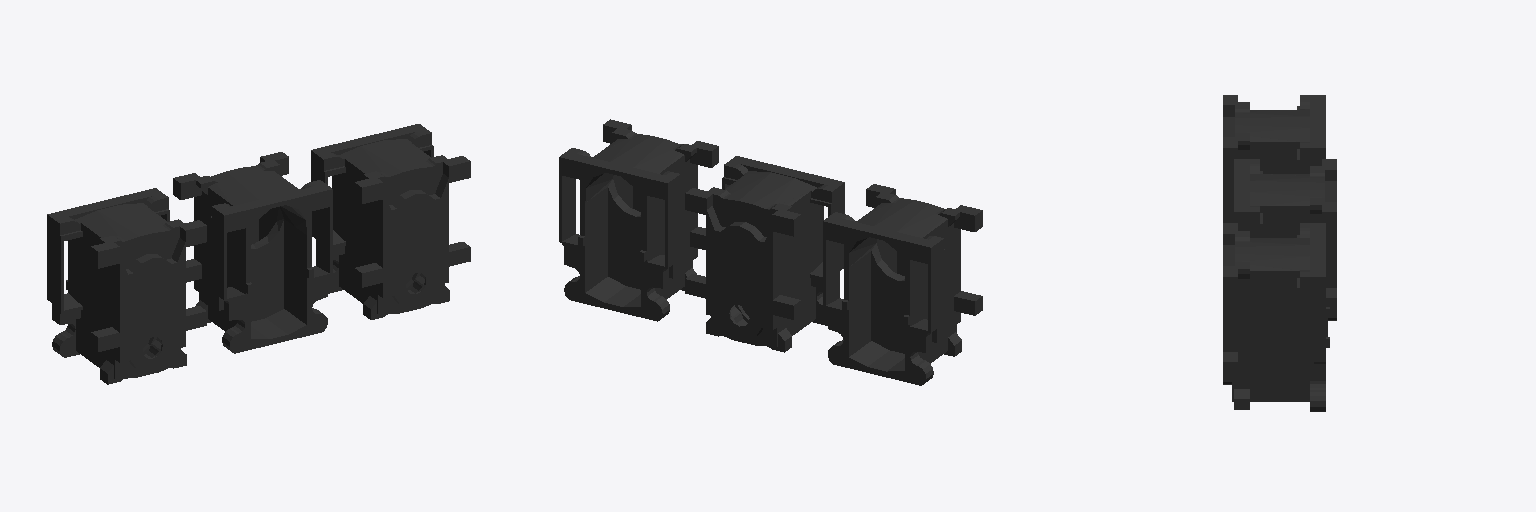
Rendered from Waist_1_mesh_1.obj.
3 renders of one model, left to right at view 1: azimuth 30°, elevation 25°; view 2: azimuth 150°, elevation 25°; view 3: azimuth 270°, elevation 25°, orthographic.
Bounding box in the file's own units: 0.113 × 0.0408 × 0.03.